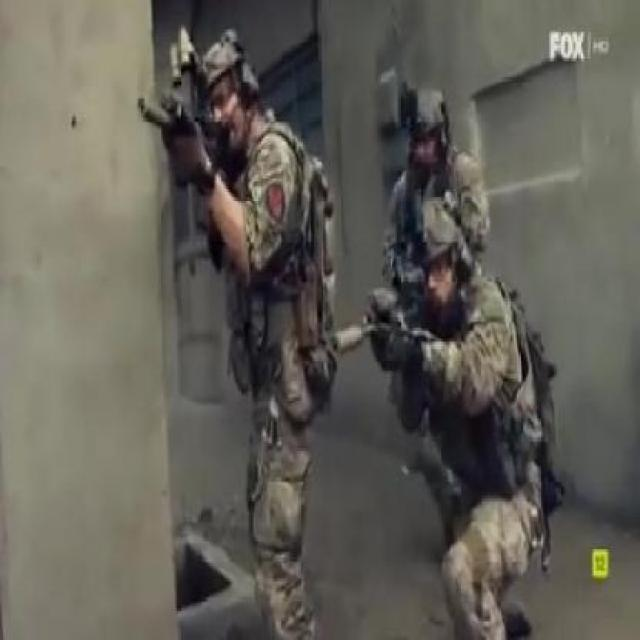Rifle: (125, 43, 246, 192), (317, 246, 437, 388)
